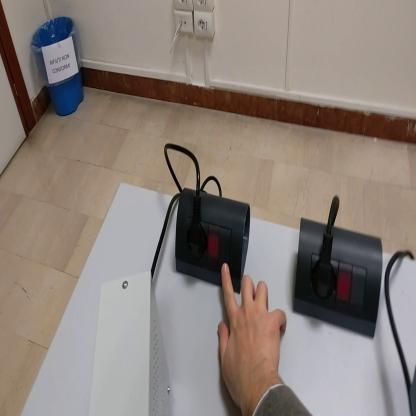hand: (218, 263, 287, 399)
power supply: (91, 274, 171, 416)
socket: (294, 216, 383, 337), (175, 189, 251, 296)
